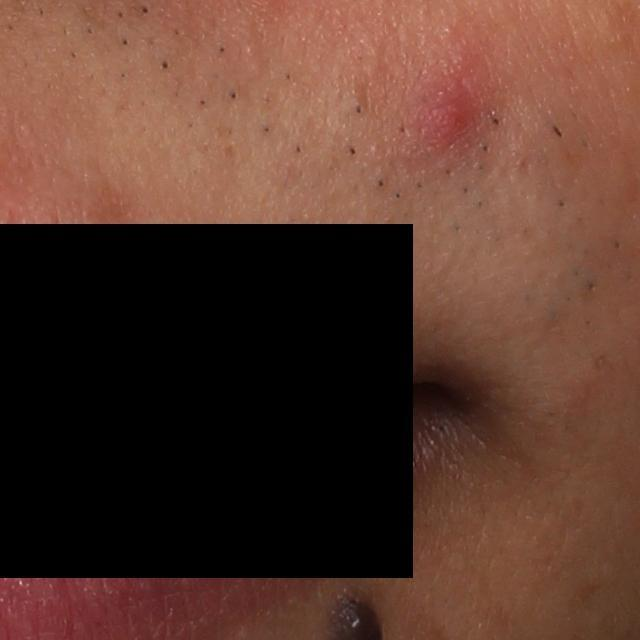papule: (407, 65, 481, 158)
